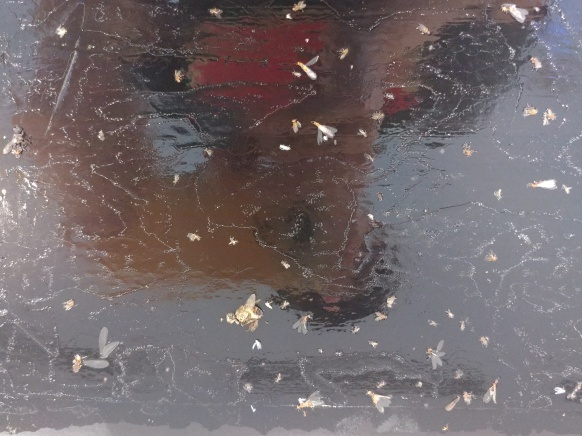flying termite: (307, 116, 340, 146), (480, 373, 506, 408), (524, 172, 563, 195), (294, 54, 323, 84)
